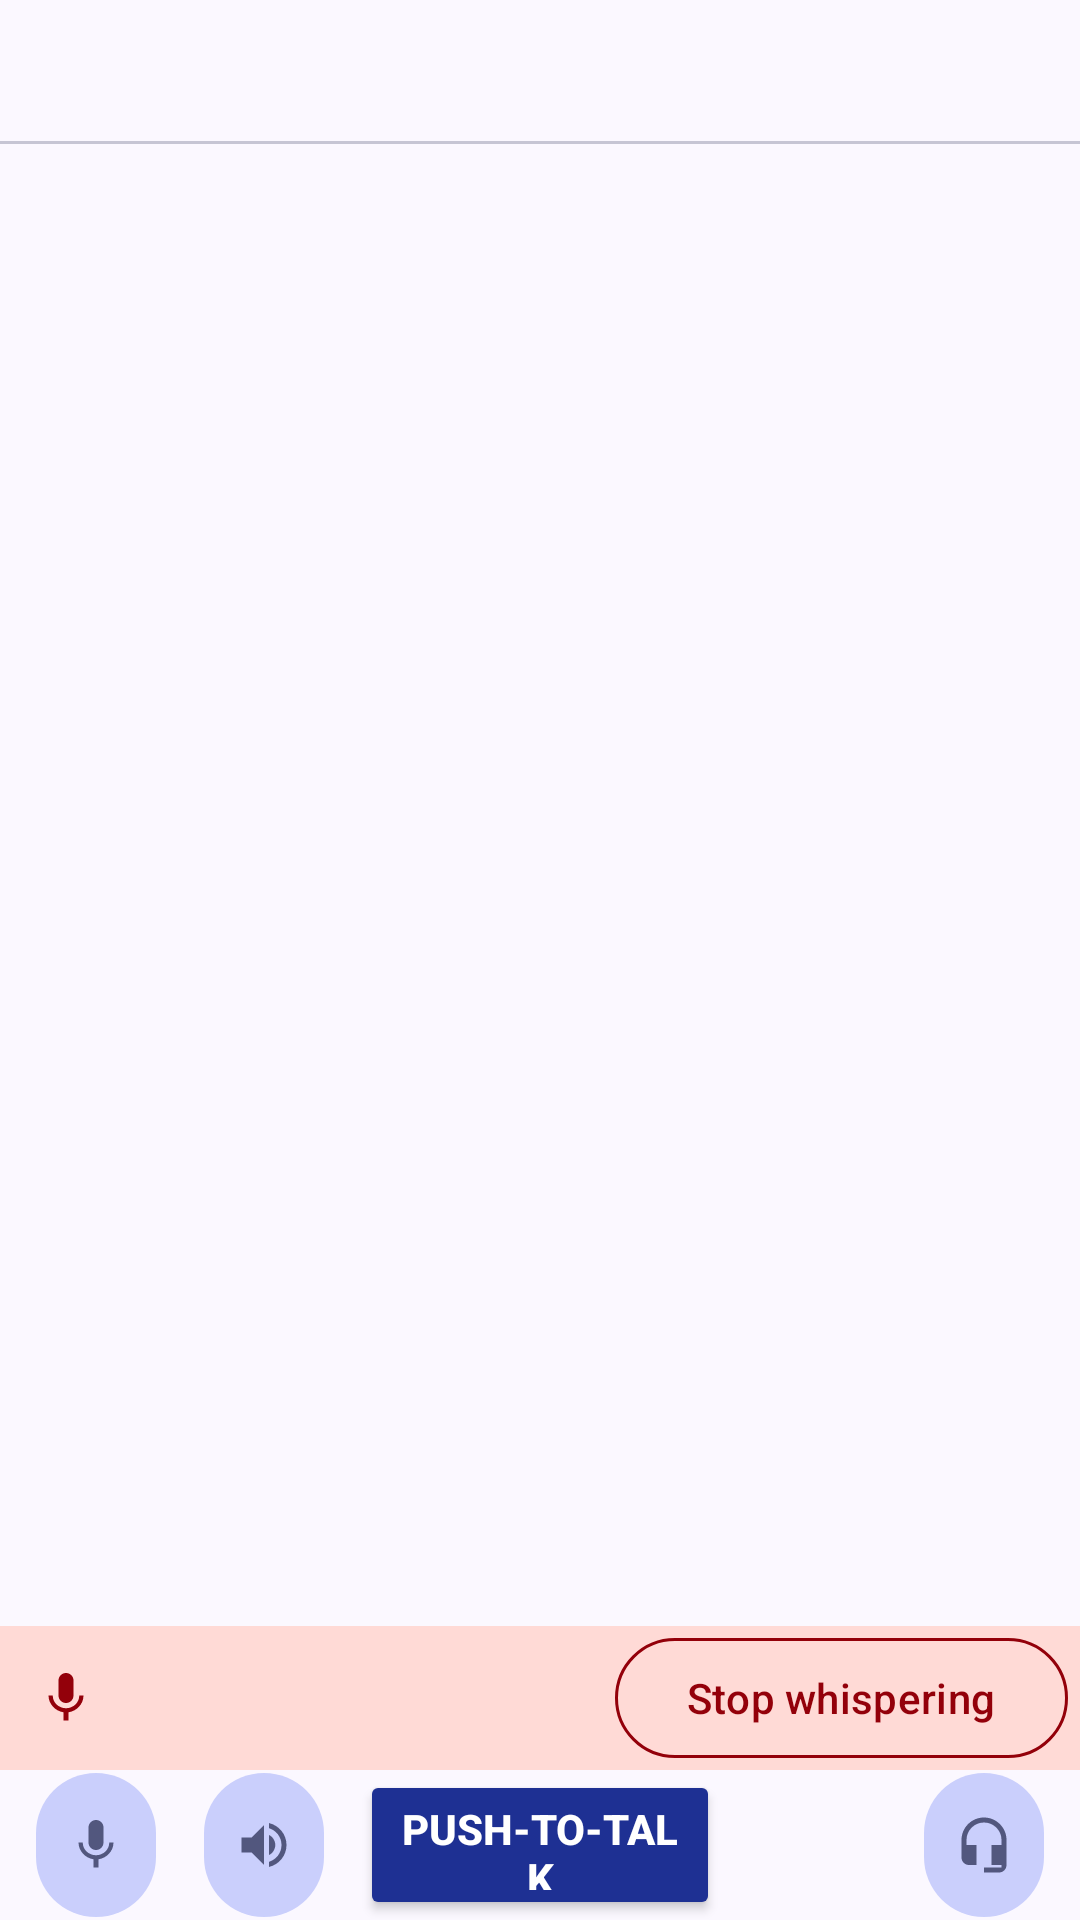

Named icons in this screenshot (1080×1920) and their bounding boxes, (x1, y1, x2, y2):
microphone: (48, 1673, 84, 1721)
Mute: (36, 1773, 156, 1917)
